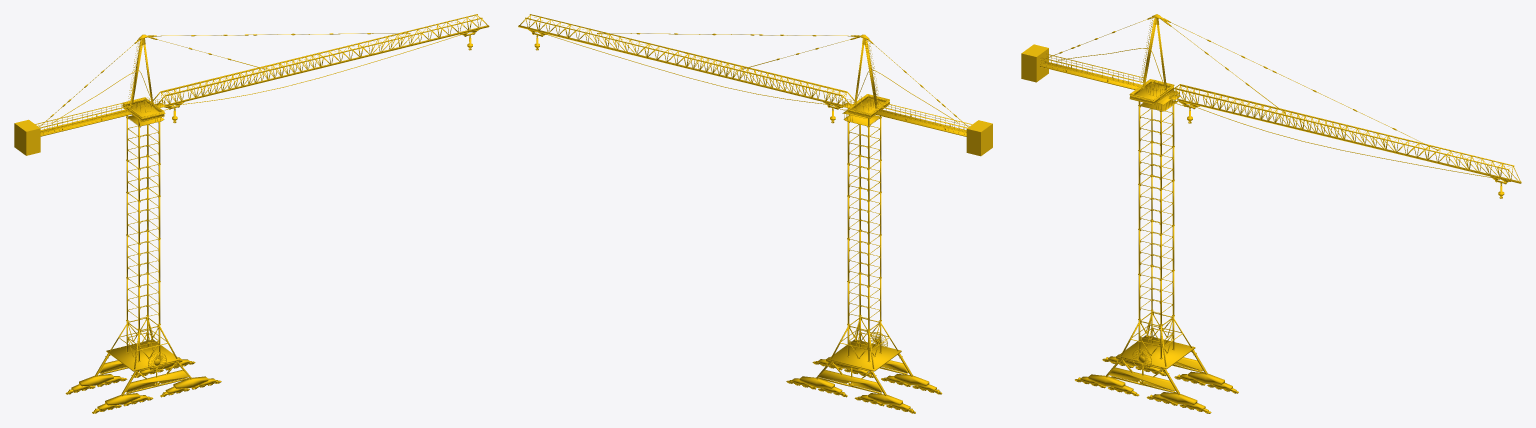
The model's file is TTC-K5000.glb.
3 views of the same model, side by side, from view 1: azimuth 30°, elevation 25°; view 2: azimuth 150°, elevation 25°; view 3: azimuth 330°, elevation 25° (orthographic). The views are drawn at different scales.
Parts seen in each view (by area): view 1: Plane.024, Plane.005; view 2: Plane.005, Plane.024; view 3: Plane.005, Plane.024.
Part boxes in pixels (x1,y1,x2,y2): Plane.024: [14, 14, 489, 155]; Plane.005: [65, 113, 221, 413]; Plane.005: [786, 109, 942, 413]; Plane.024: [518, 14, 992, 156]; Plane.005: [1075, 90, 1238, 413]; Plane.024: [1021, 14, 1521, 198].
Size of what is drawn, in the model's own units: 138 by 99.38 by 14.88.
